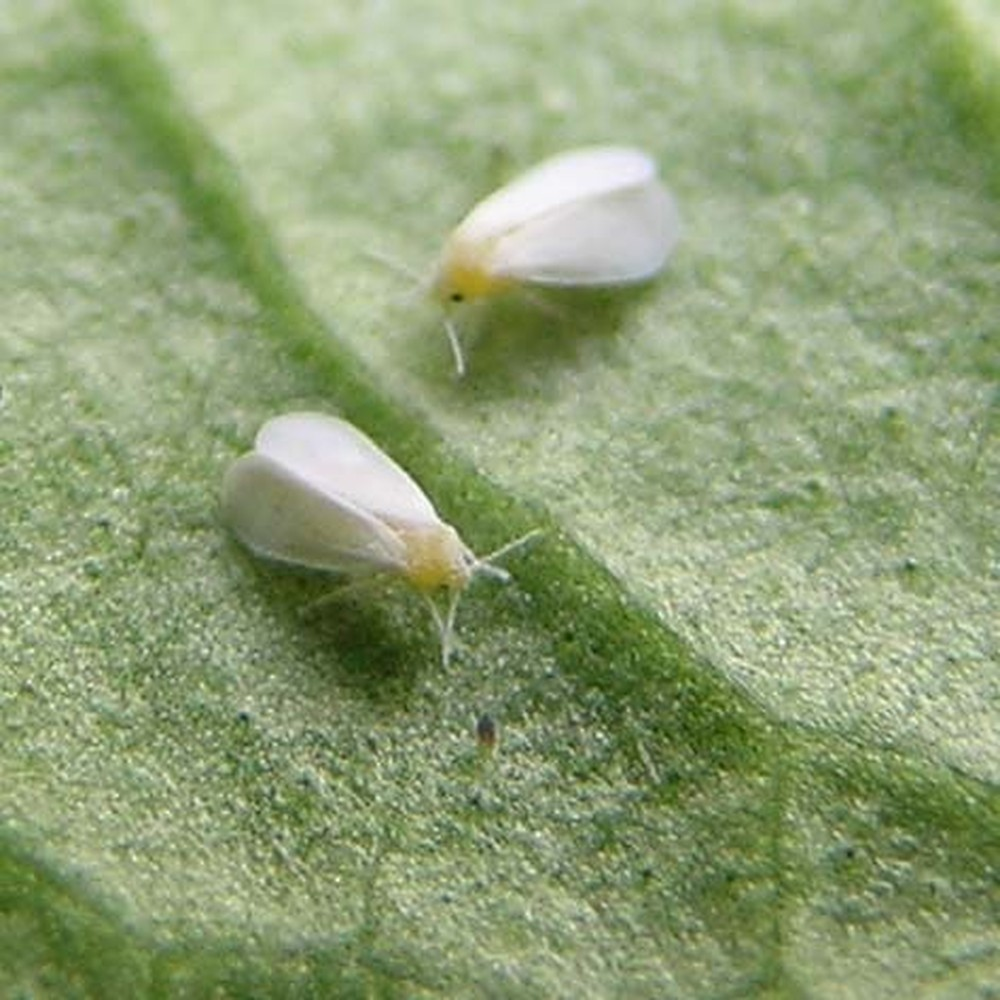Mosca Blanca: (204, 374, 551, 718), (353, 118, 743, 401)
